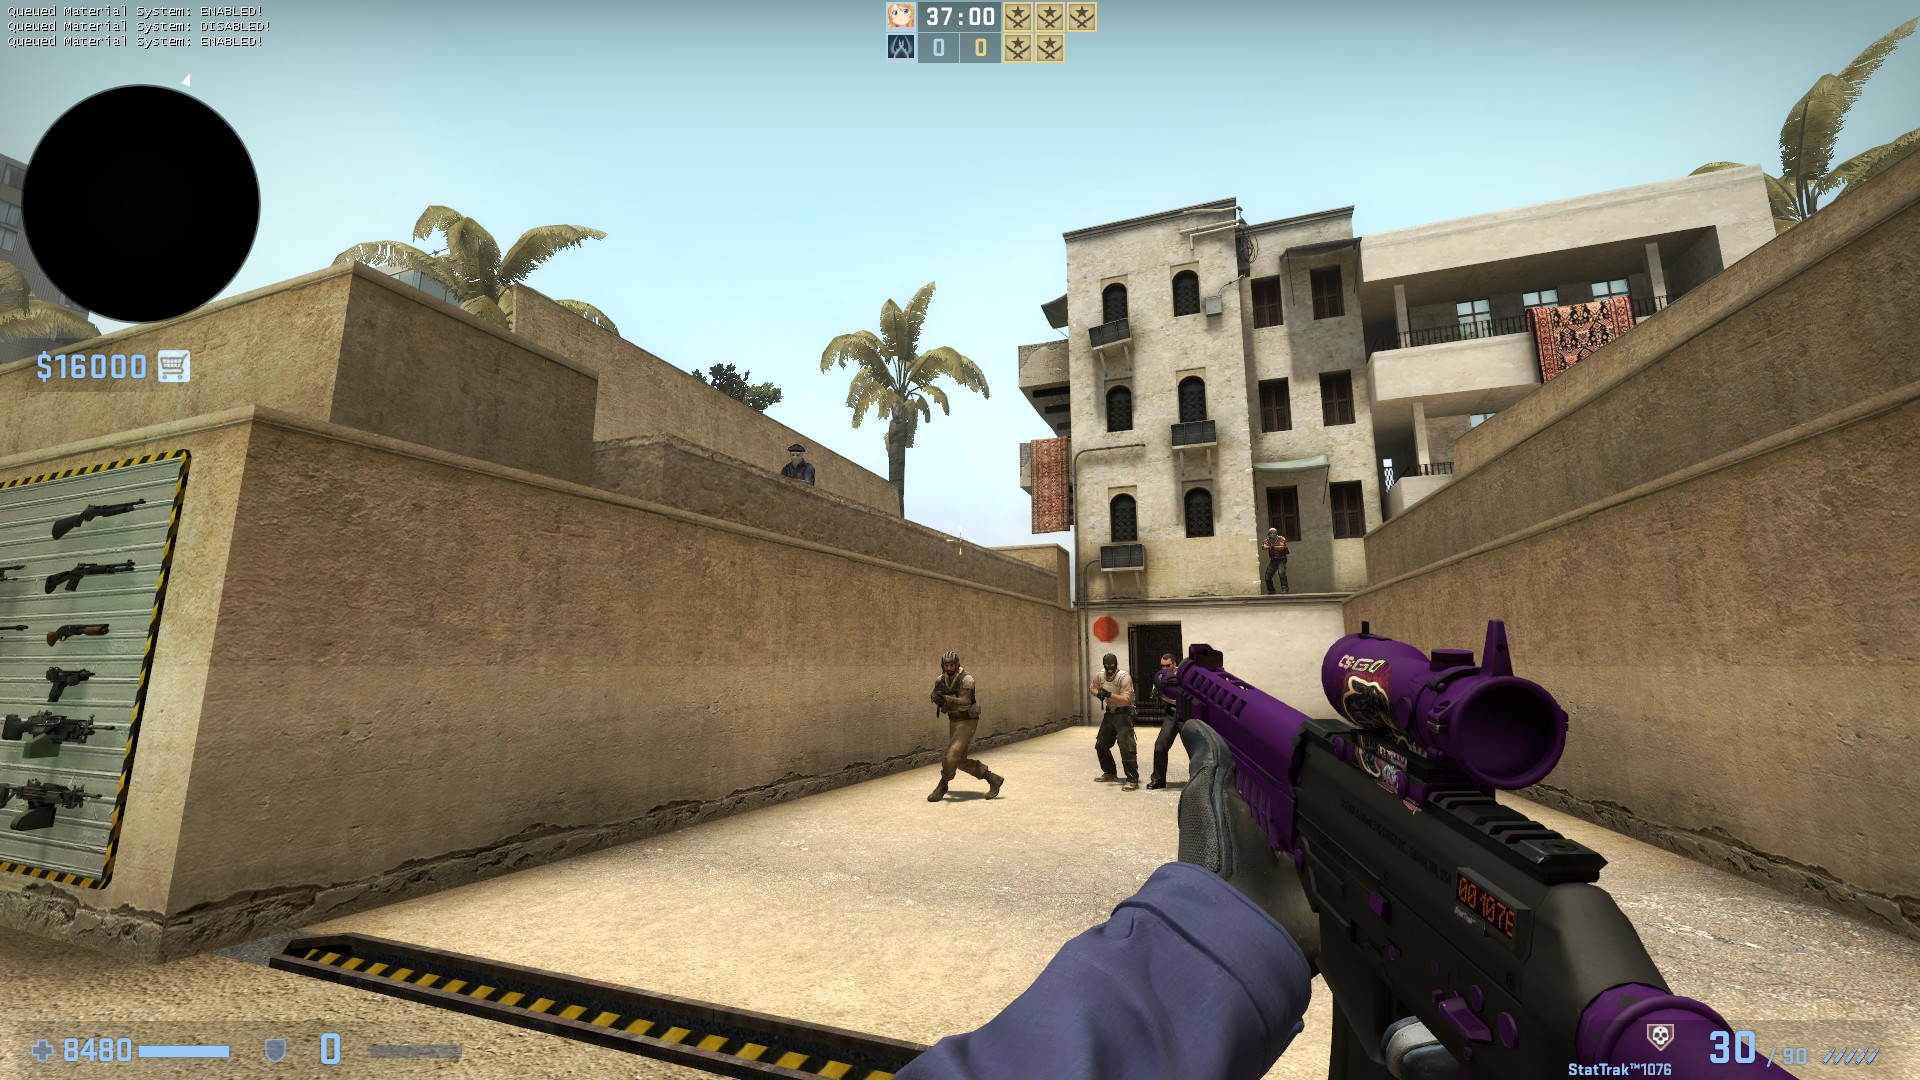head: (785, 441, 806, 466), (939, 651, 958, 675), (1101, 653, 1118, 678), (1157, 652, 1176, 672), (1266, 526, 1277, 539)
